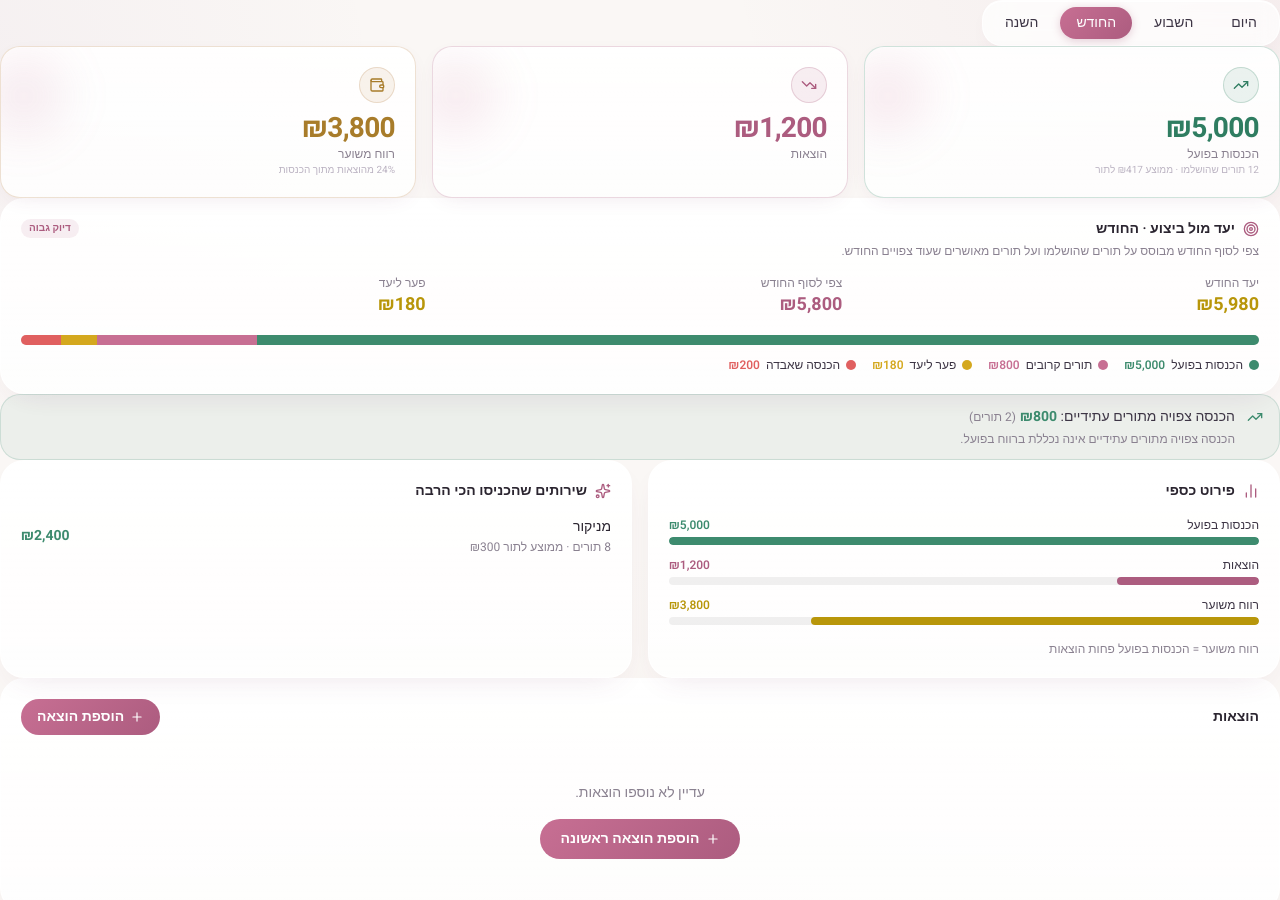
Test: FinancePageClient — expenses CRUD › shows the empty-expenses state with its CTA when there are no expenses
This screenshot has width=1280, height=900.
Expected: the text "עדיין לא נוספו הוצאות." is shown, [575, 782, 705, 802]
// empty-state CTA opens the add modal too
Click the button "הוספת הוצאה ראשונה": (640, 838) [540, 818, 740, 858]
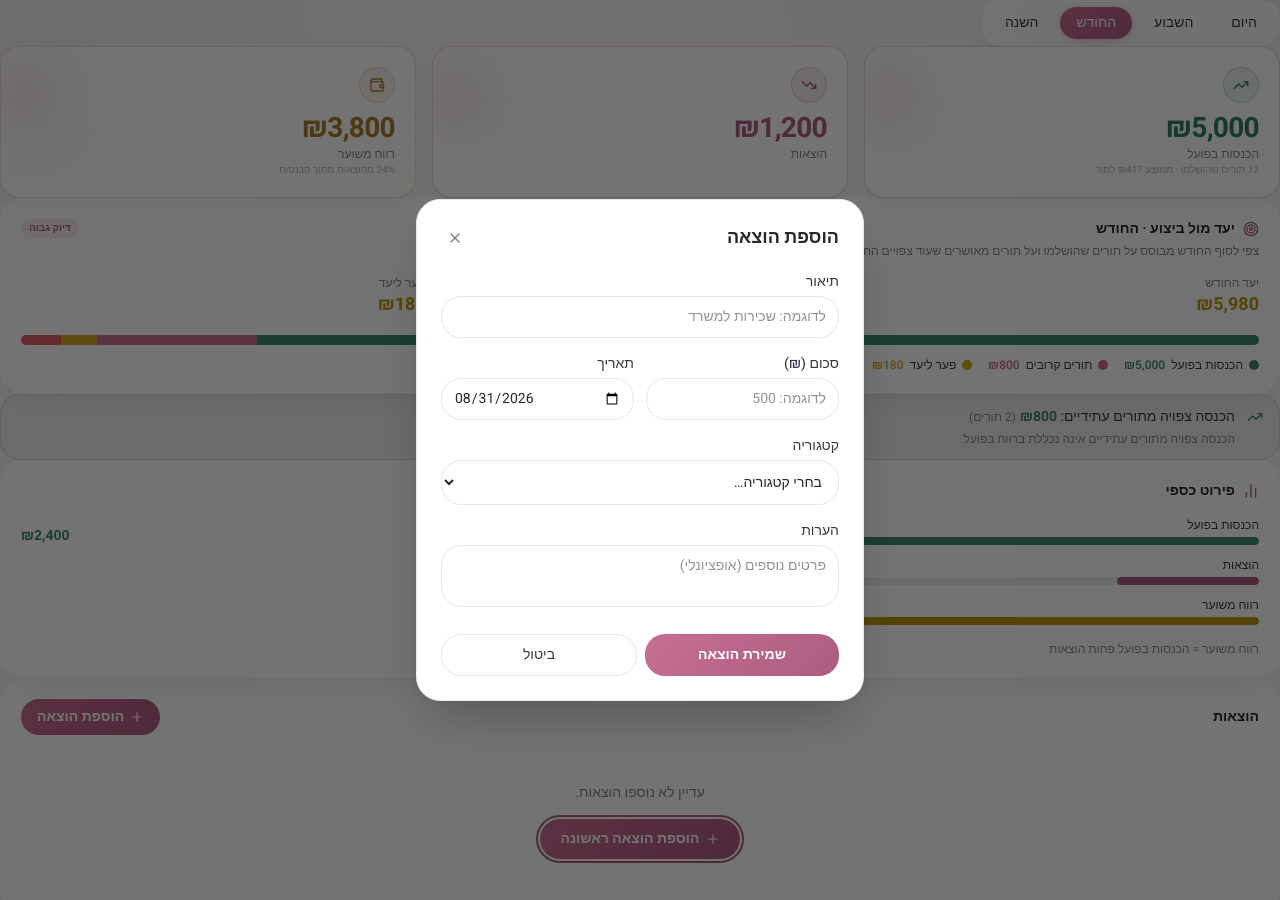
Expected: the heading "הוספת הוצאה" is shown, [727, 224, 839, 252]
